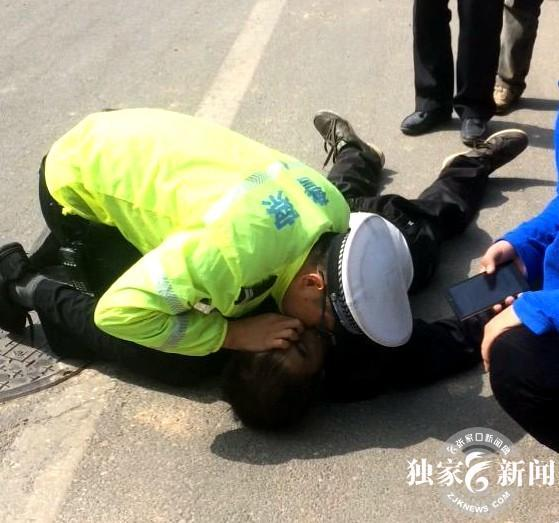fall: (250, 75, 537, 446)
